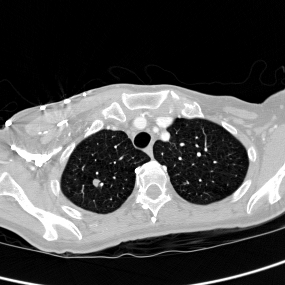nodule: (92, 179, 100, 187)
